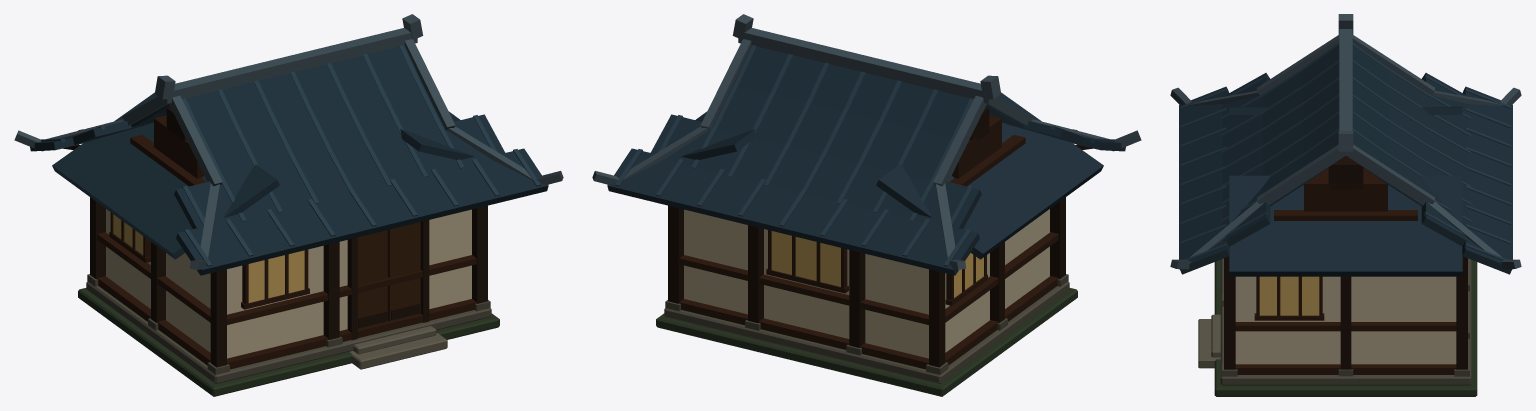
Rendered from courtyard_pavilion_v2.glb.
3 renders of one model, left to right at view 1: azimuth 30°, elevation 25°; view 2: azimuth 150°, elevation 25°; view 3: azimuth 270°, elevation 25°, orthographic. The views are drawn at different scales.
Visible parts, largest first — view 1: CourtyardPavilionV2; view 2: CourtyardPavilionV2; view 3: CourtyardPavilionV2.
Boxes of the visible parts, <box> form: CourtyardPavilionV2: <box>14,14,563,396</box>; CourtyardPavilionV2: <box>592,14,1141,396</box>; CourtyardPavilionV2: <box>1170,14,1521,396</box>.
Bounding box in the file's own units: 5.02 × 3.4 × 4.23.
